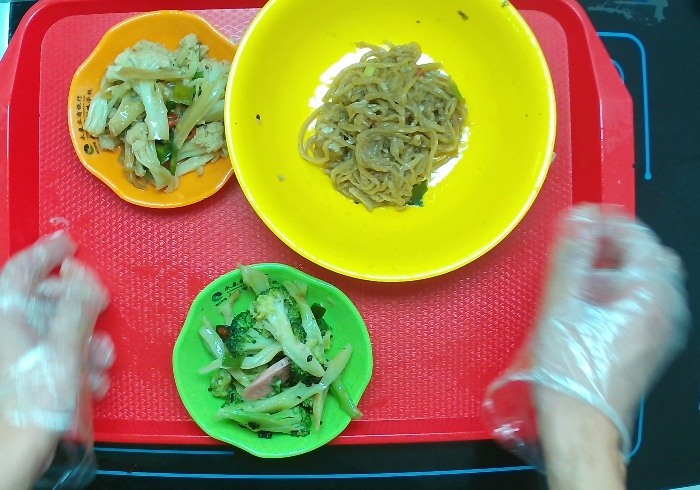YKMZ-Huang_Se_Tang_Wan: (220, 1, 559, 284)
YKMZ-Ju_Se_Ao_Bian_Wan: (65, 7, 241, 210)
YKMZ-Lv_Se_Ao_Bian_Wan: (170, 261, 375, 460)
